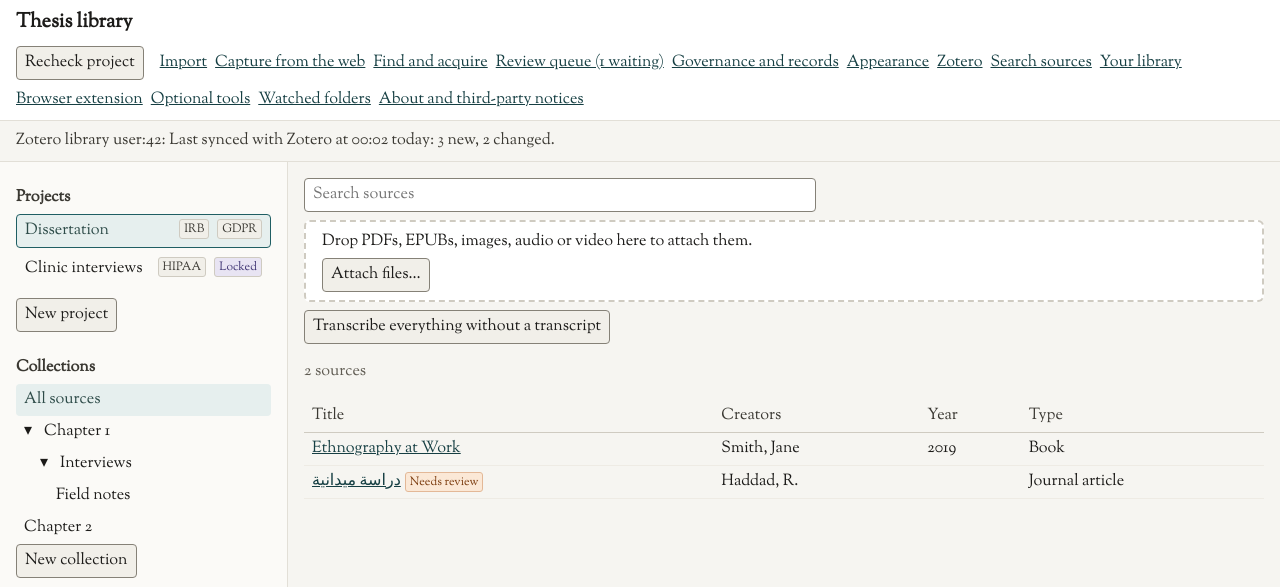
Test: Library: the Zotero lines › the other project's links show when it is chosen, and the ones of the project left are gone
Expected: the button "Dissertation IRB GDPR" is shown, [16,214,271,248]
Expected: the element with test id "zotero-lines" is shown, [0,121,1279,162]
Click the button "Clinic interviews HIPAA Locked" at coordinates (144, 269), box [16,252,271,286]
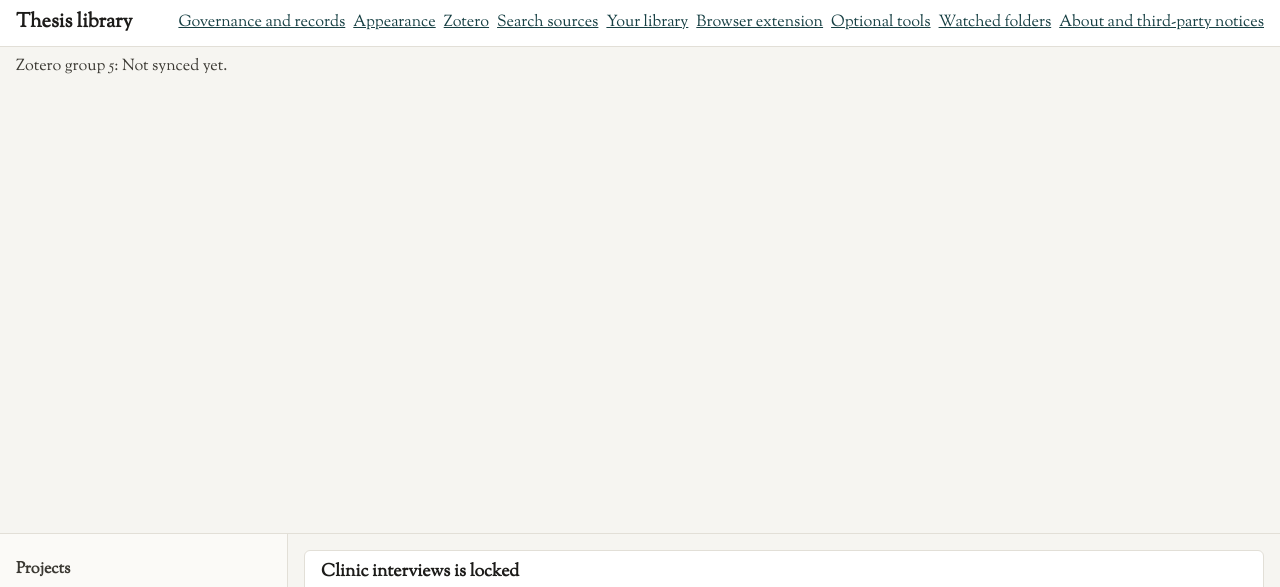
Expected: the element with test id "zotero-lines" reads "Zotero group 5: Not synced yet."
Expected: the text with test id "zotero-lines" no longer shows "user:42"
